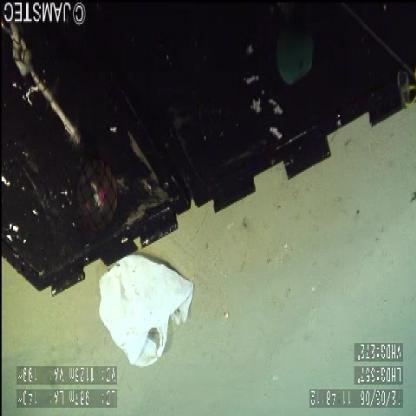Rov: (1, 2, 415, 308)
Rác: (88, 236, 198, 373)
